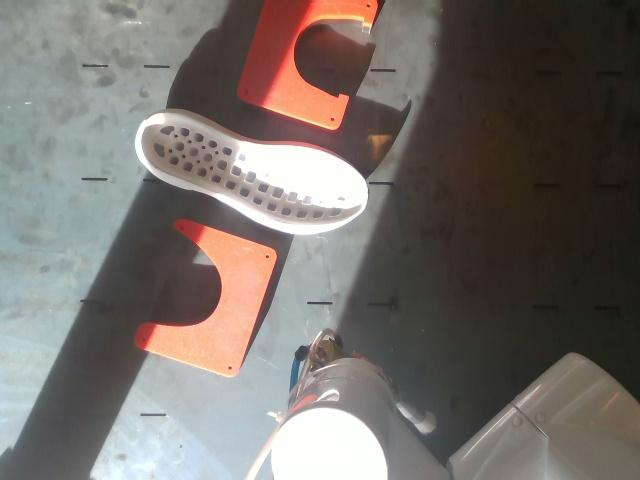shoes: (142, 114, 366, 226)
